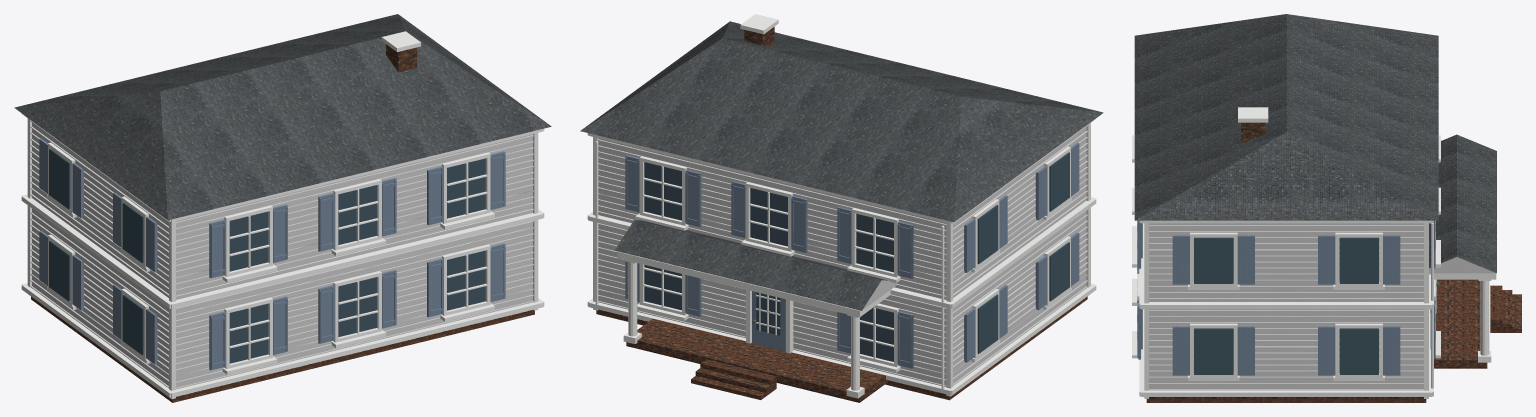
The model's file is building-type-c.glb.
3 views of the same model, side by side, from view 1: azimuth 30°, elevation 25°; view 2: azimuth 150°, elevation 25°; view 3: azimuth 270°, elevation 25° (orthographic). The views are drawn at different scales.
Parts seen in each view (by area): view 1: colonial house c; view 2: colonial house c; view 3: colonial house c.
Boxes of the visible parts, <box> form: colonial house c: <box>14,14,551,402</box>; colonial house c: <box>580,14,1103,402</box>; colonial house c: <box>1132,14,1521,402</box>.
Bounding box in the file's own units: 14.4 × 9.13 × 12.82.
Materials: 7 (4 with a texture image).
